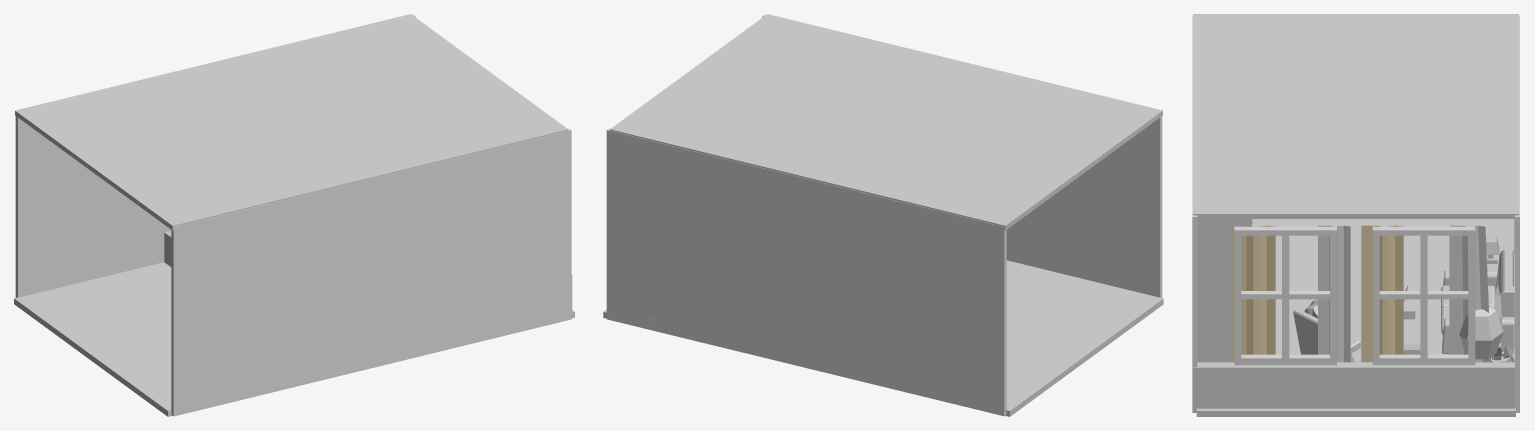
File: grandmotherRoom.gltf
3 views of the same model, side by side, from view 1: azimuth 30°, elevation 25°; view 2: azimuth 150°, elevation 25°; view 3: azimuth 270°, elevation 25° (orthographic). The views are drawn at different scales.
Parts seen in each view (by area): view 1: Cube.008, Cube.117, Cube.118, Cube.121; view 2: Cube.118, Cube.117, Cube.008, Cube.121; view 3: Cube.117, Cube.061, Cube.121, Cube.046, Cube.059, Cube.062, Plane.009, Plane.008, Plane.010, Plane.007, Cube.072, Cube.008 (+6 smaller).
Boxes of the visible parts, x1,y1,x2,y2 form: Cube.008: [171, 128, 571, 416]; Cube.117: [15, 14, 568, 230]; Cube.118: [15, 14, 415, 297]; Cube.121: [14, 262, 574, 416]; Cube.118: [606, 128, 1006, 416]; Cube.117: [610, 14, 1162, 230]; Cube.008: [762, 14, 1162, 297]; Cube.121: [603, 260, 1163, 416]; Cube.117: [1193, 14, 1519, 218]; Cube.061: [1193, 362, 1515, 412]; Cube.121: [1196, 219, 1515, 416]; Cube.046: [1372, 226, 1475, 365]; Cube.059: [1234, 226, 1336, 365]; Cube.062: [1197, 219, 1235, 362]; Plane.009: [1231, 225, 1275, 362]; Plane.008: [1361, 225, 1403, 362]; Plane.010: [1318, 225, 1350, 362]; Plane.007: [1449, 225, 1491, 362]; Cube.072: [1459, 305, 1503, 359]; Cube.008: [1192, 16, 1197, 412].
Bounding box in the file's own units: 35.14 × 15.83 × 23.7.
